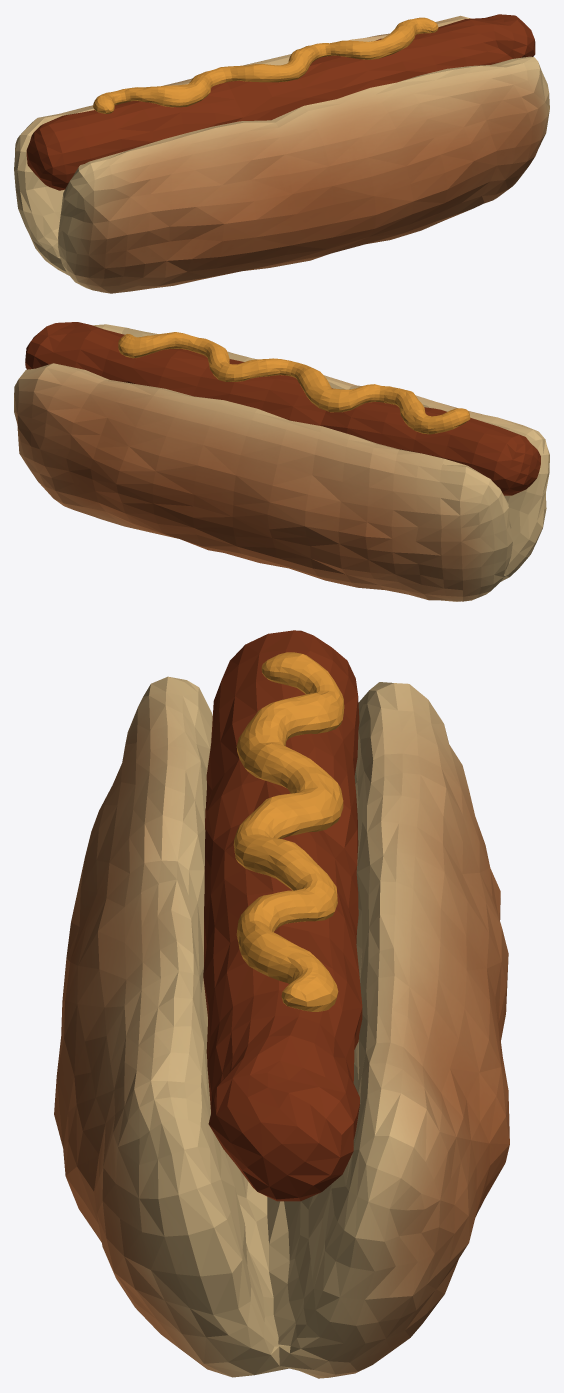
File: BigDog.glb
3 views of the same model, one above another, from view 1: azimuth 30°, elevation 25°; view 2: azimuth 150°, elevation 25°; view 3: azimuth 270°, elevation 25° (orthographic). The views are drawn at different scales.
Bounding box in the file's own units: 51.2 × 18.39 × 20.29.
Materials: 1 (1 with a texture image).
